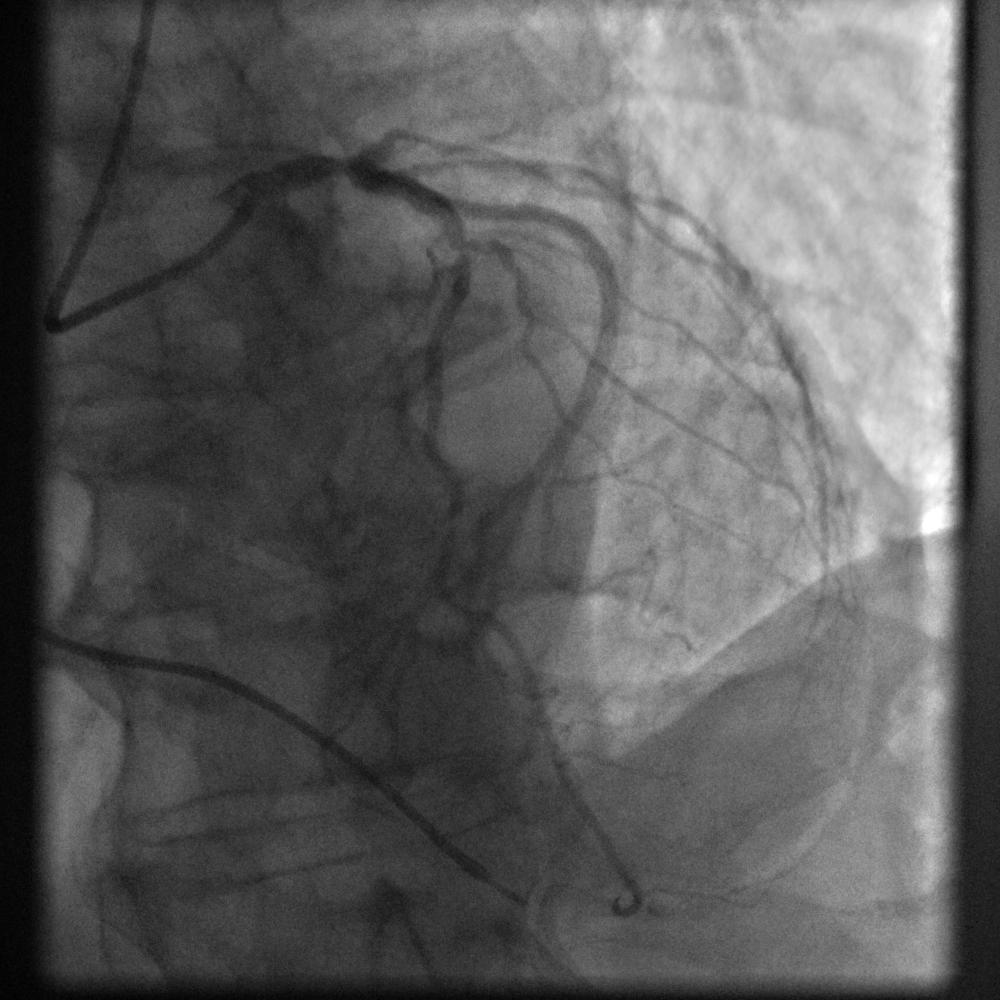Stenosis: (436, 221, 520, 275)
